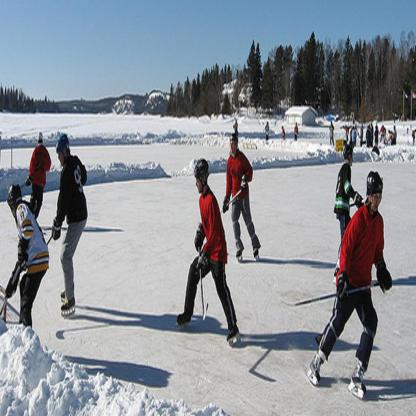face: (372, 191, 382, 212), (196, 178, 203, 194), (59, 149, 65, 166), (349, 151, 354, 165), (231, 142, 236, 152)
